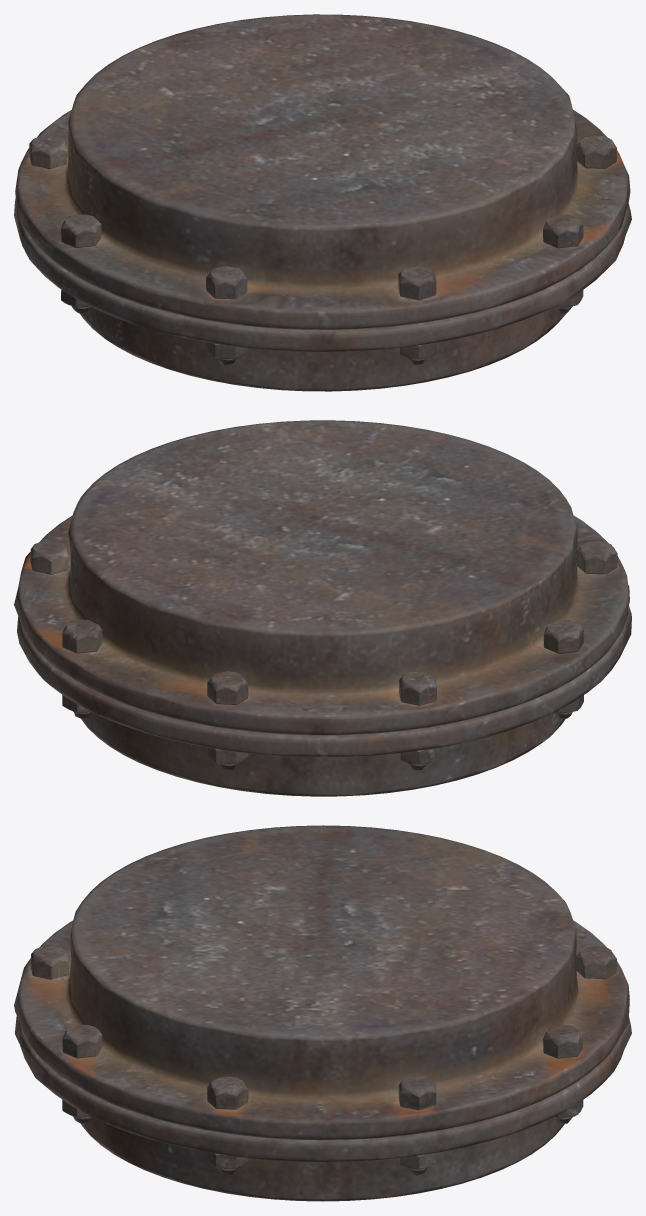
Rendered from SM_LargePipe_connection_01.fbx.
The picture shows the model from 3 angles, top to bottom: view 1: azimuth 30°, elevation 25°; view 2: azimuth 150°, elevation 25°; view 3: azimuth 270°, elevation 25°; orthographic projection.
Parts seen in each view (by area): view 1: SM_LargePipe_connection_01_LOD0; view 2: SM_LargePipe_connection_01_LOD0; view 3: SM_LargePipe_connection_01_LOD0.
Part boxes in pixels (<box>): SM_LargePipe_connection_01_LOD0: <box>14,14,631,391</box>; SM_LargePipe_connection_01_LOD0: <box>14,420,631,796</box>; SM_LargePipe_connection_01_LOD0: <box>14,825,631,1201</box>.
Bounding box in the file's own units: 85.09 × 85.86 × 25.32.
